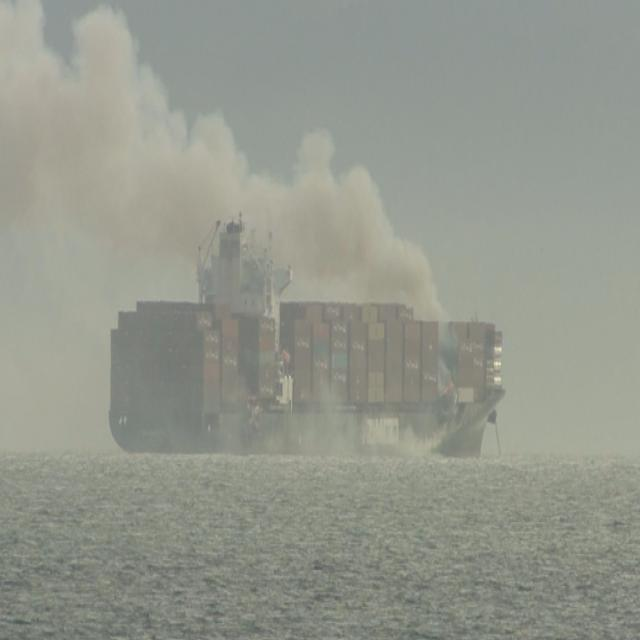cargoship: (109, 214, 502, 463)
